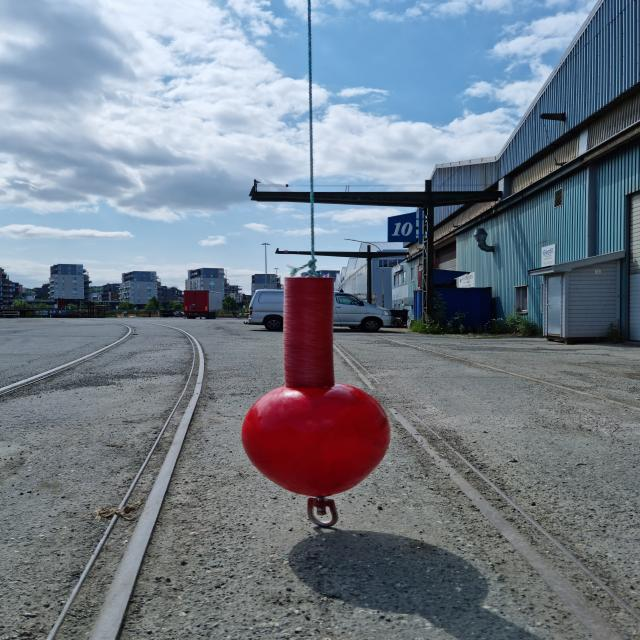red: (242, 278, 392, 498)
